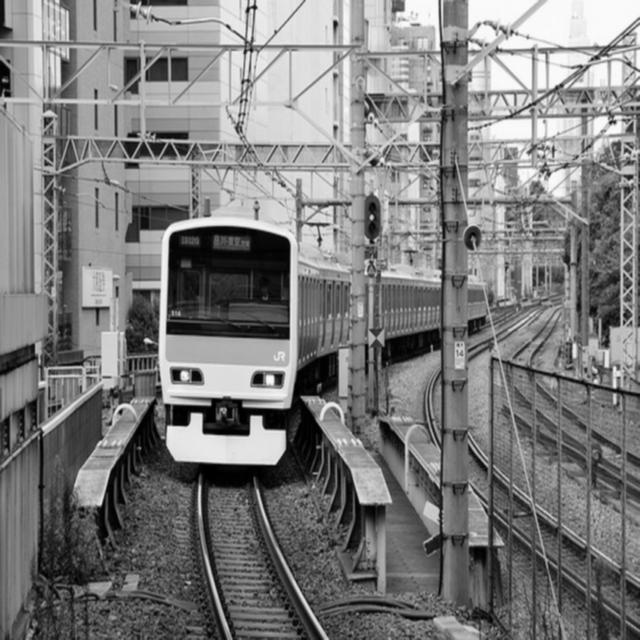pole: (432, 2, 479, 604), (343, 2, 372, 438)
